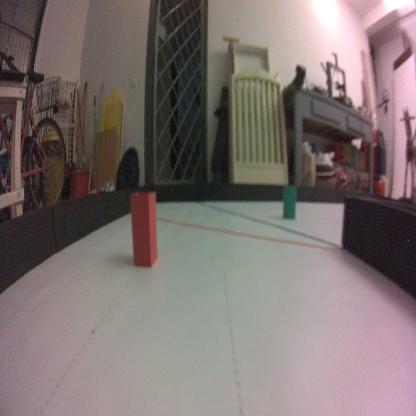green: (282, 183, 296, 218)
red: (130, 190, 158, 270)
